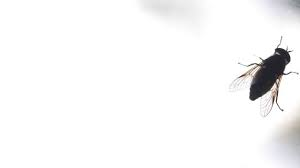insect: (228, 35, 300, 117)
